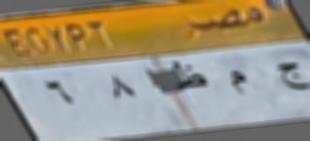6: (39, 76, 75, 111)
8: (108, 68, 140, 106)
Thaa: (170, 57, 212, 98)
jeem: (275, 55, 310, 96)
meem: (226, 66, 251, 101)
